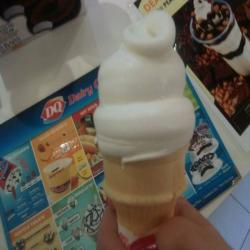icecream: (78, 8, 217, 244)
